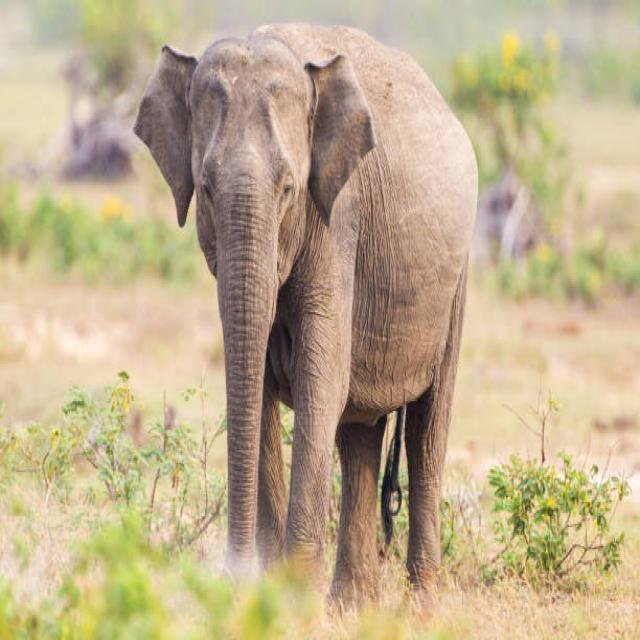Elephant: (129, 8, 492, 616)
